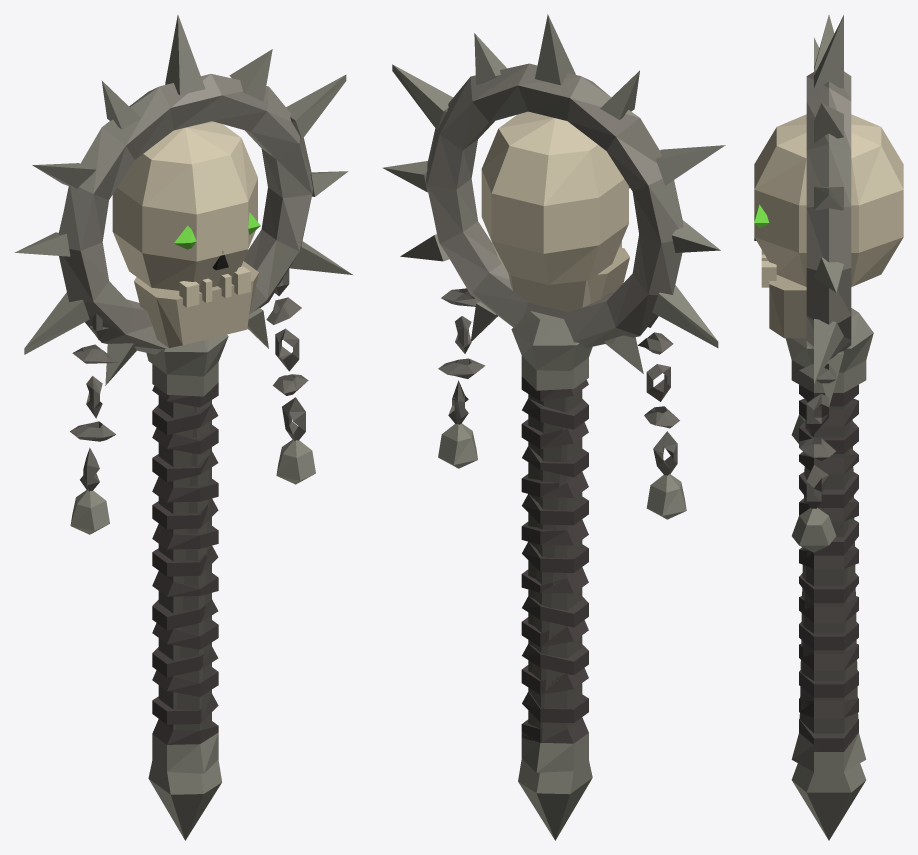
File: B03_6_necrotic_skull_censer.obj
The picture shows the model from 3 angles, left to right: view 1: azimuth 30°, elevation 25°; view 2: azimuth 150°, elevation 25°; view 3: azimuth 270°, elevation 25°; orthographic projection.
Parts seen in each view (by area): view 1: B03_6_necrotic_skull_censer; view 2: B03_6_necrotic_skull_censer; view 3: B03_6_necrotic_skull_censer.
Part boxes in pixels (x1=…): B03_6_necrotic_skull_censer: x1=14, y1=15, x2=352, y2=840; B03_6_necrotic_skull_censer: x1=382, y1=14, x2=725, y2=840; B03_6_necrotic_skull_censer: x1=754, y1=15, x2=903, y2=840.
Size of the model in its own units: 52 by 122 by 20.
